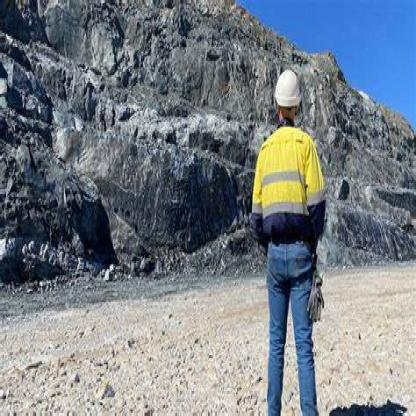person: (243, 58, 332, 414)
